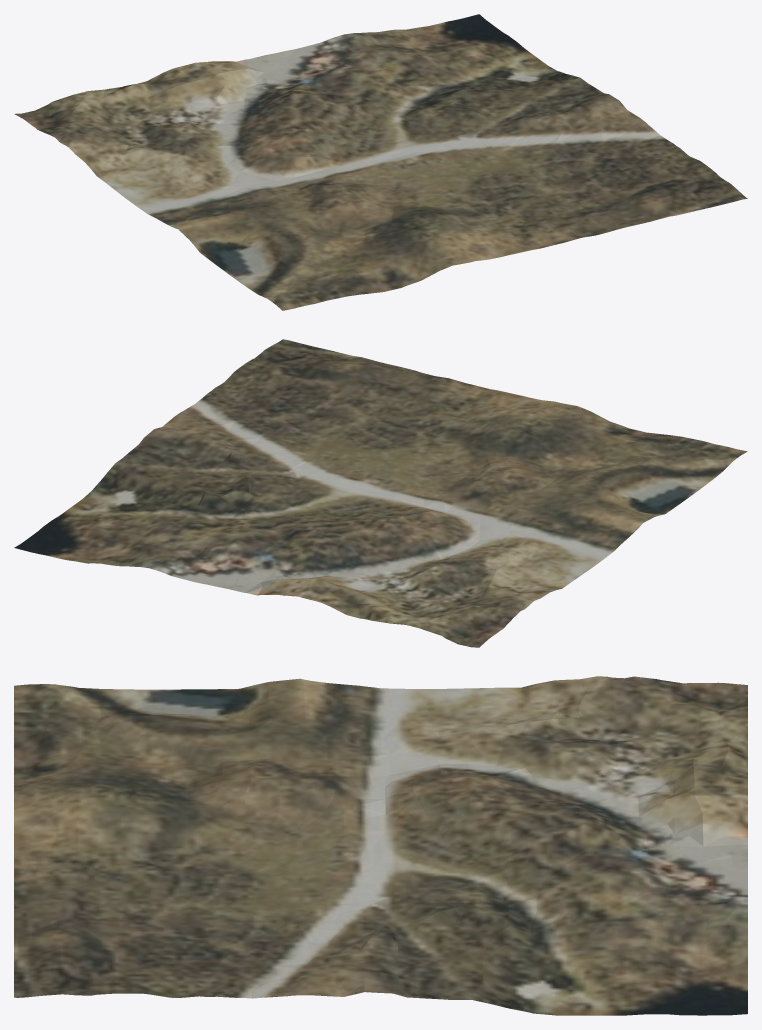
The picture shows the model from 3 angles, top to bottom: view 1: azimuth 30°, elevation 25°; view 2: azimuth 150°, elevation 25°; view 3: azimuth 270°, elevation 25°; orthographic projection. The views are drawn at different scales.
Size of the model in its own units: 104 by 5.27 by 104.
Materials: 2 (2 with a texture image).
